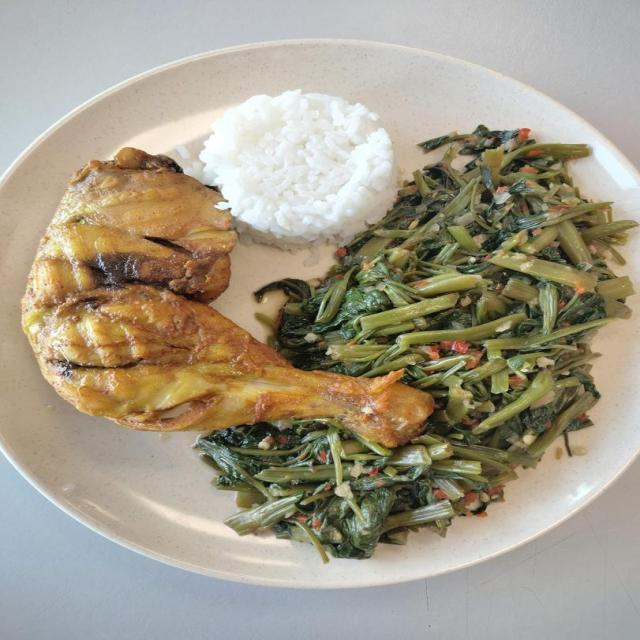Chicken: (21, 147, 430, 451)
Plate: (0, 45, 639, 580)
Rice: (201, 94, 397, 248)
Vegetables: (199, 128, 626, 563)
